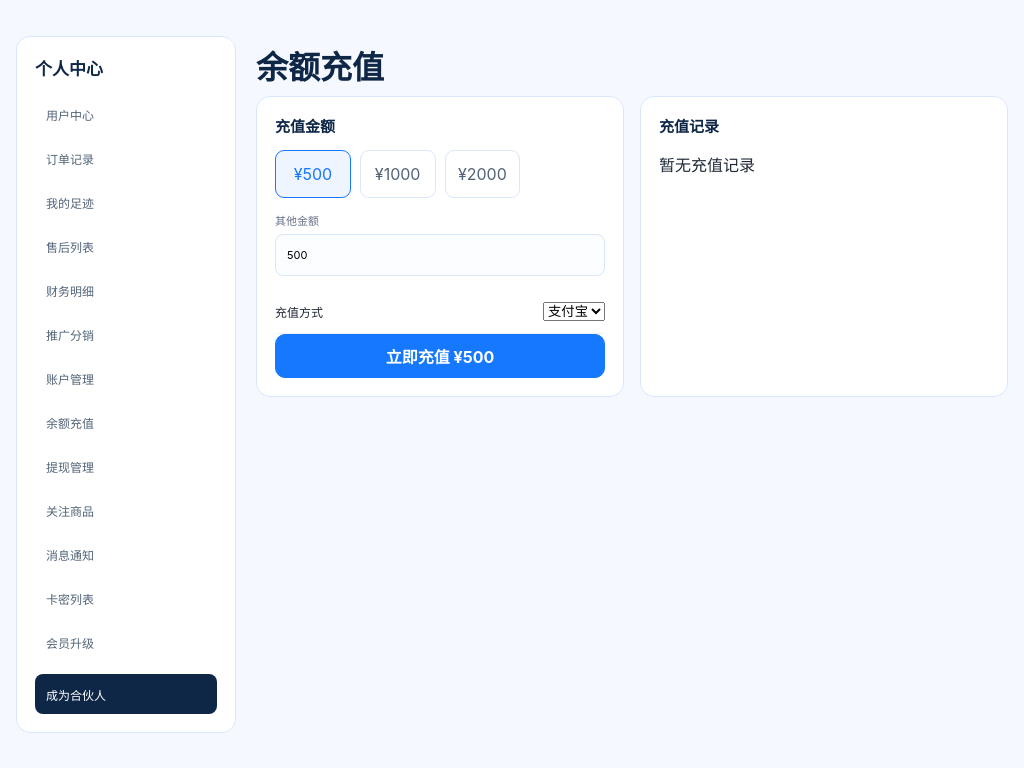
Test case: 分站核心用户中心能力 › 充值提交后生成待支付记录
The image size is (1024, 768).
Click the button "立即充值 ¥500" at point(440, 356), box [275,334,605,378]
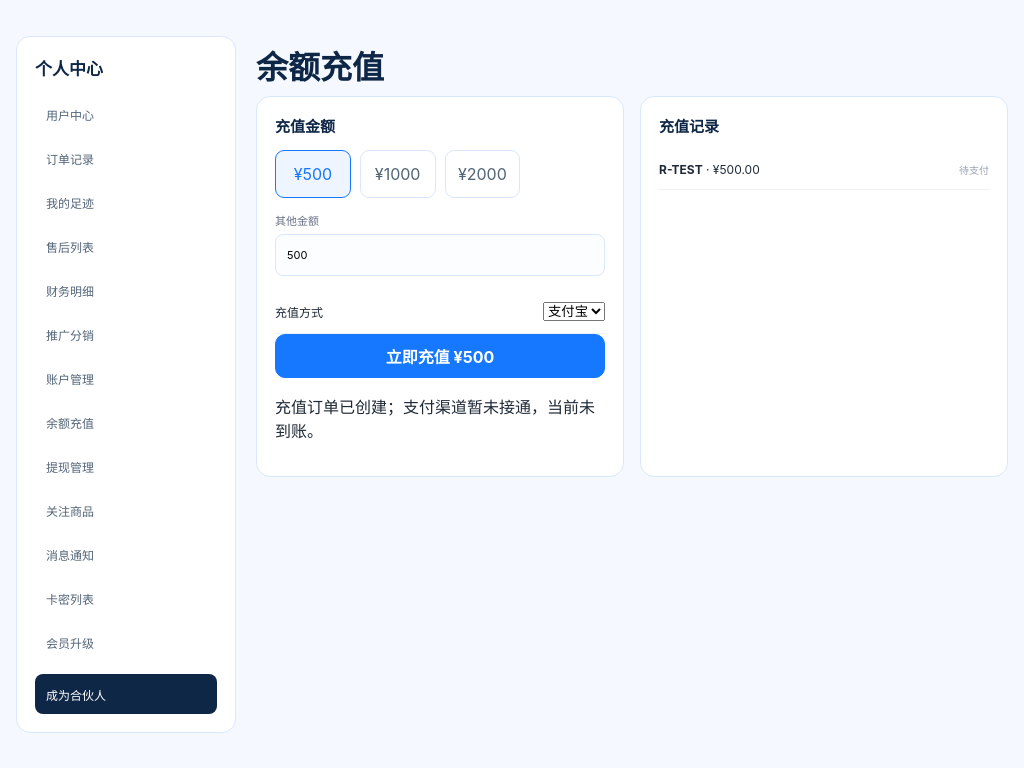
Now the text "待支付" is shown, box [959,162,989,177]
